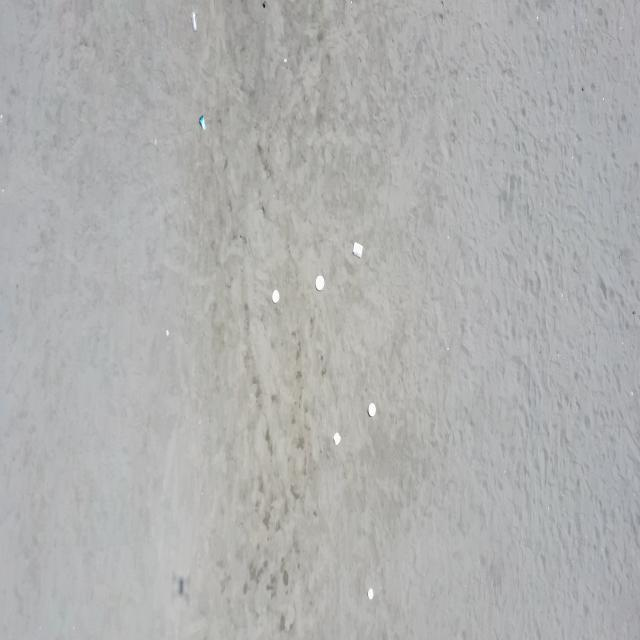take-away-containers: (352, 239, 364, 259), (314, 273, 326, 293), (367, 586, 375, 602), (333, 431, 341, 447), (272, 289, 280, 305), (368, 402, 376, 417)
takeaway-cup: (190, 11, 198, 33), (198, 114, 206, 131)
